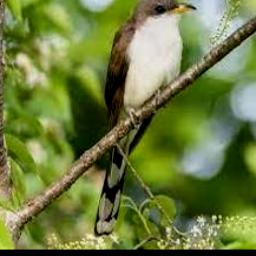Cuckoo: (93, 0, 196, 236)
